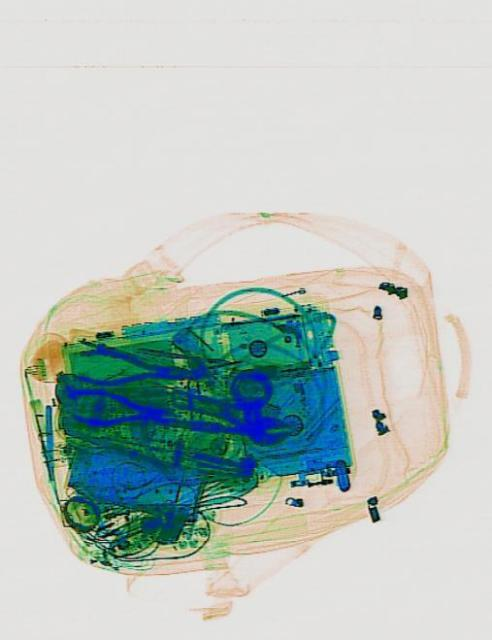Pliers: (75, 342, 202, 392), (63, 383, 172, 433)
Wrench: (182, 406, 290, 446)
